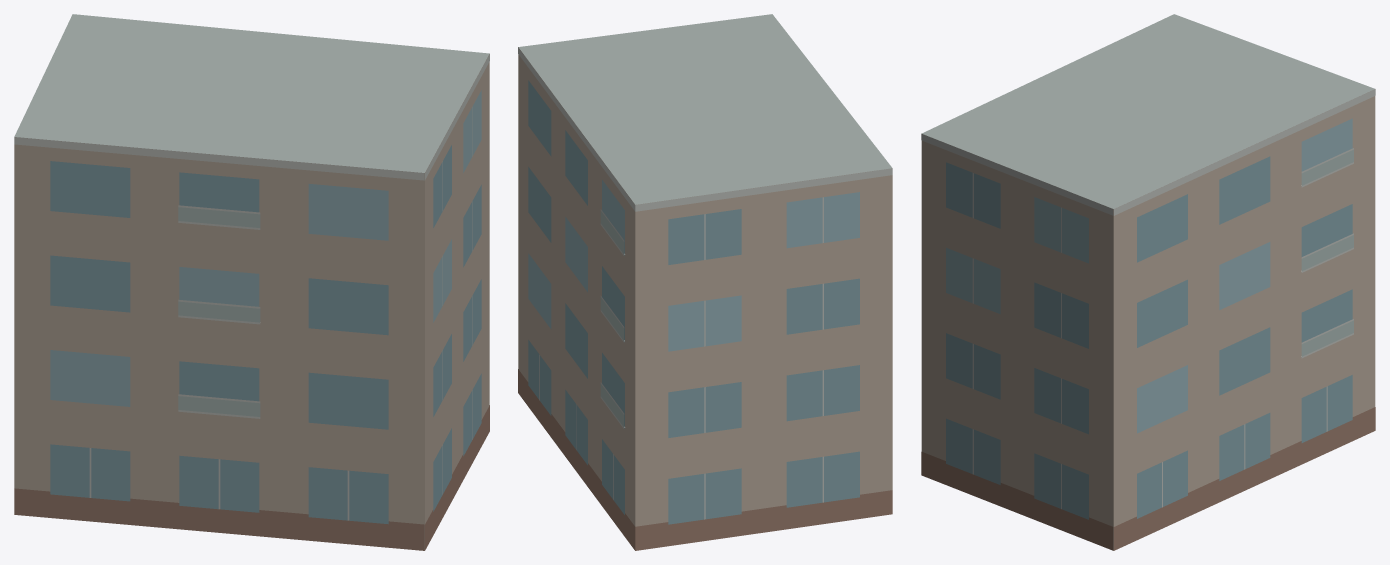
Rendered from survey-upis-32721062.glb.
The picture shows the model from 3 angles, left to right: view 1: azimuth 30°, elevation 25°; view 2: azimuth 150°, elevation 25°; view 3: azimuth 270°, elevation 25°; orthographic projection. The views are drawn at different scales.
Parts seen in each view (by area): view 1: survey-upis-32721062.tmp; view 2: survey-upis-32721062.tmp; view 3: survey-upis-32721062.tmp.
Boxes of the visible parts, x1,y1,x2,y2 form: survey-upis-32721062.tmp: (14, 14, 489, 550); survey-upis-32721062.tmp: (518, 14, 892, 550); survey-upis-32721062.tmp: (921, 14, 1375, 550).
Size of the model in its own units: 14.95 by 12.2 by 14.7.
